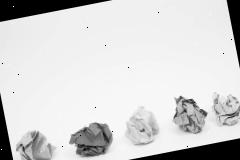paper: (66, 119, 115, 160), (168, 90, 211, 136), (120, 103, 162, 147), (13, 125, 60, 160), (208, 86, 240, 127)
